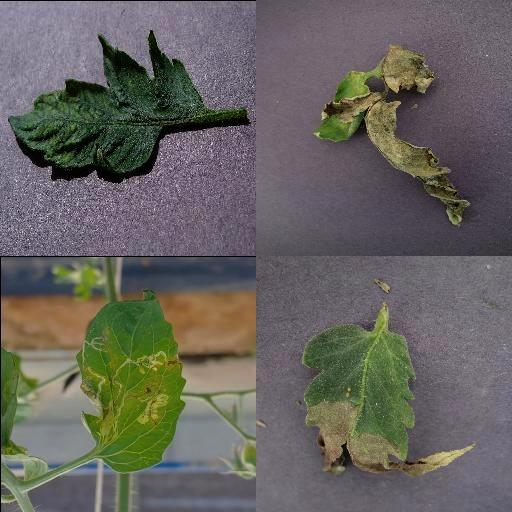Late Blight: (301, 300, 475, 480), (315, 45, 473, 225)
Leaf Miner: (74, 289, 186, 473)
Mosaic Virus: (6, 29, 210, 179)
